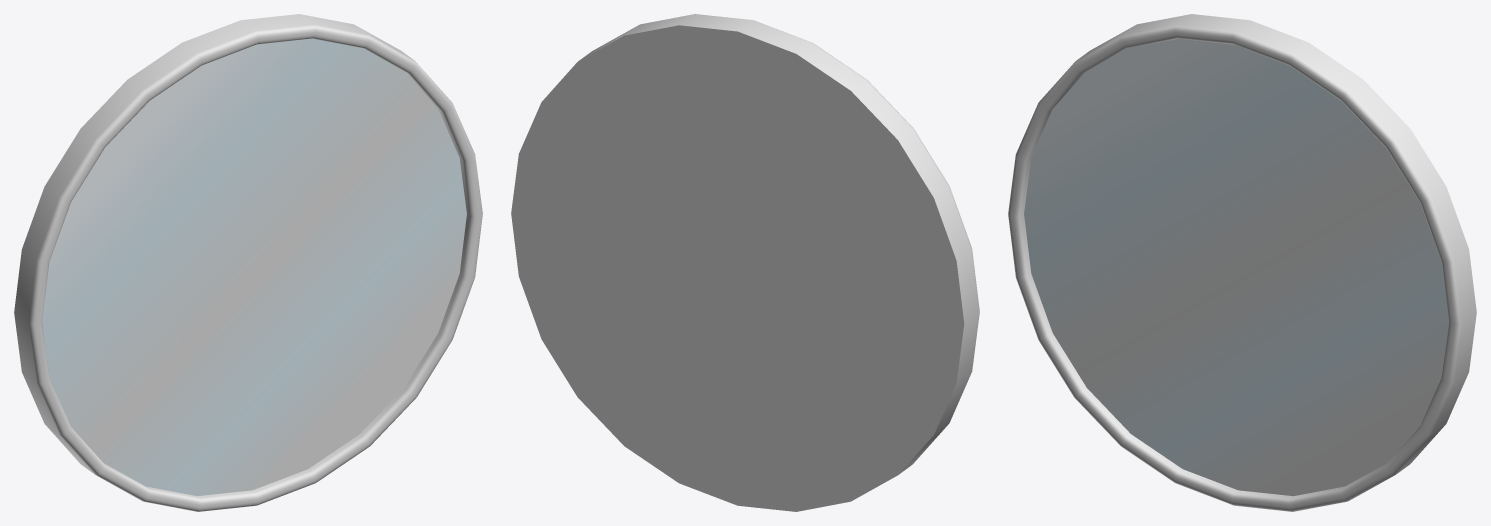
Rendered from Espelho Redondo.fbx.
The picture shows the model from 3 angles, left to right: view 1: azimuth 30°, elevation 25°; view 2: azimuth 150°, elevation 25°; view 3: azimuth 330°, elevation 25°; orthographic projection.
Parts seen in each view (by area): view 1: EspelhoRedondoTela, EspelhoRedondo; view 2: EspelhoRedondo; view 3: EspelhoRedondoTela, EspelhoRedondo.
Part boxes in pixels (left/top/right/bottom): EspelhoRedondoTela: left=42, top=38, right=466, bottom=496; EspelhoRedondo: left=14, top=14, right=482, bottom=511; EspelhoRedondo: left=511, top=14, right=979, bottom=511; EspelhoRedondoTela: left=1024, top=38, right=1448, bottom=496; EspelhoRedondo: left=1008, top=14, right=1476, bottom=511.
Size of the model in its own units: 60 by 60 by 4.
